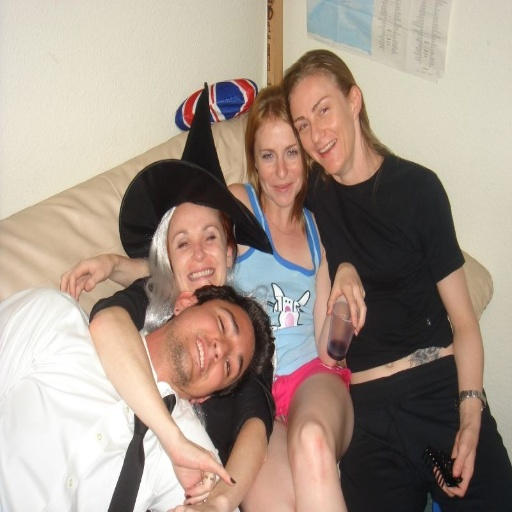hand: (170, 430, 237, 507), (430, 427, 480, 500), (336, 261, 371, 343), (58, 253, 112, 302), (165, 500, 220, 510)
